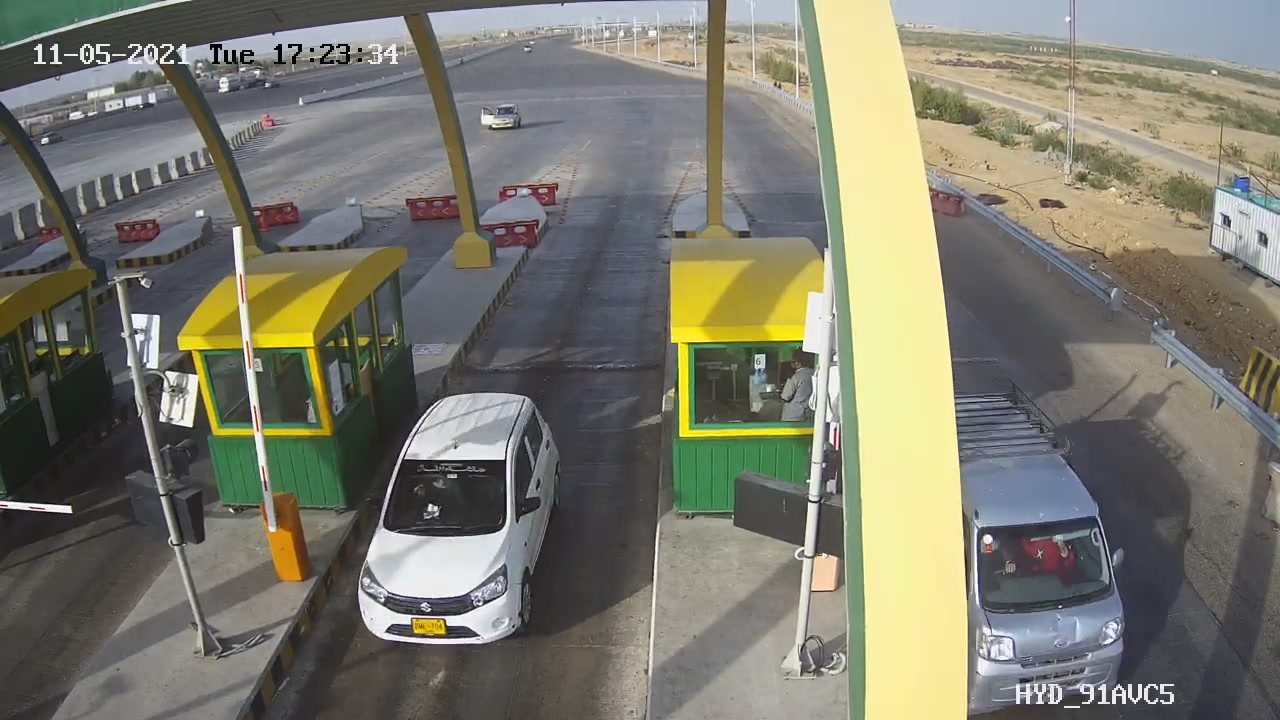F1: (343, 374, 578, 665)
